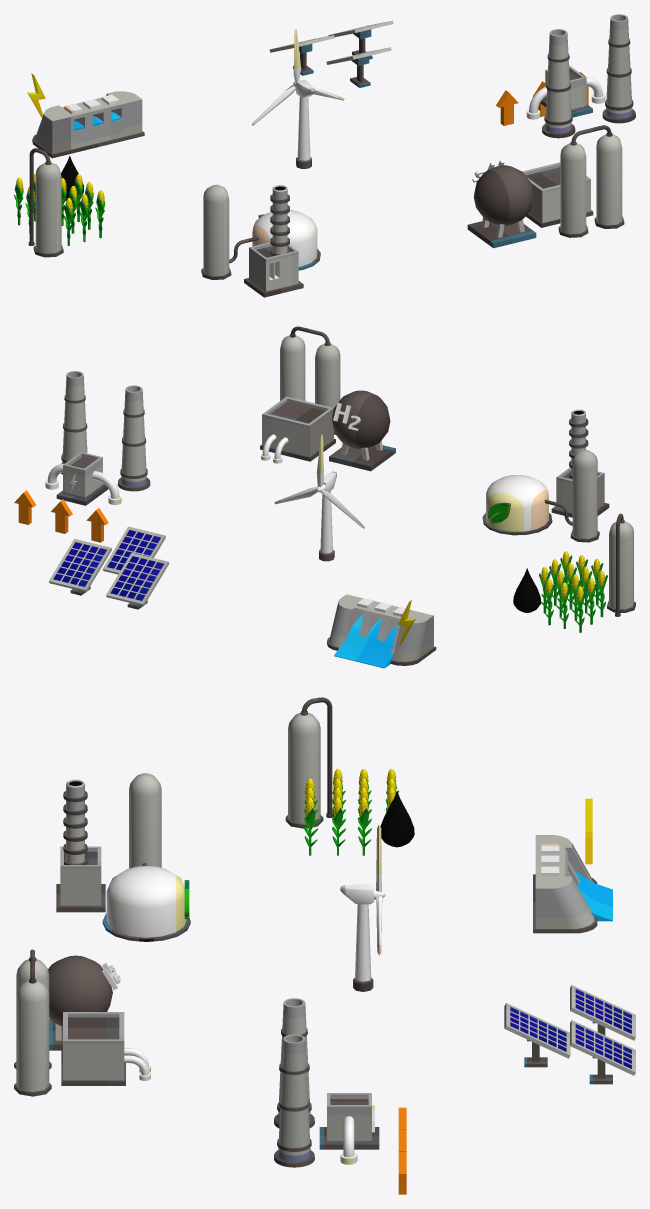
Rendered from alter.glb.
3 renders of one model, top to bottom at view 1: azimuth 30°, elevation 25°; view 2: azimuth 150°, elevation 25°; view 3: azimuth 270°, elevation 25°, orthographic. The views are drawn at different scales.
Visible parts, largest first — view 1: hydrogen, biomass, geothermal, biofuel, hydroelectric_dam, solarpanels, windmill_base, windmill_blades; view 2: hydrogen, geothermal, biomass, biofuel, hydroelectric_dam, solarpanels, windmill_base, windmill_blades; view 3: hydrogen, biomass, geothermal, biofuel, solarpanels, hydroelectric_dam, windmill_base, windmill_blades.
Boxes of the visible parts, x1,y1,x2,y2 form: hydrogen: [467, 125, 624, 248]; biomass: [201, 184, 320, 297]; geothermal: [496, 14, 635, 138]; biofuel: [14, 148, 104, 257]; hydroelectric_dam: [32, 91, 144, 158]; solarpanels: [269, 20, 393, 87]; windmill_base: [295, 80, 314, 168]; windmill_blades: [251, 28, 344, 125]; hydrogen: [260, 326, 395, 471]; geothermal: [14, 371, 150, 542]; biomass: [482, 409, 609, 542]; biofuel: [513, 513, 635, 632]; hydroelectric_dam: [327, 594, 436, 668]; solarpanels: [49, 526, 169, 609]; windmill_base: [319, 471, 336, 561]; windmill_blades: [274, 434, 364, 528]; hydrogen: [14, 949, 150, 1096]; biomass: [56, 773, 190, 941]; geothermal: [274, 998, 406, 1194]; biofuel: [285, 697, 414, 855]; solarpanels: [504, 985, 635, 1084]; hydroelectric_dam: [533, 835, 612, 933]; windmill_base: [340, 884, 373, 991]; windmill_blades: [374, 825, 385, 955].
Size of what is drawn, in the model's own units: 9.91 by 2.47 by 7.32.
16 materials, 16 textured.
